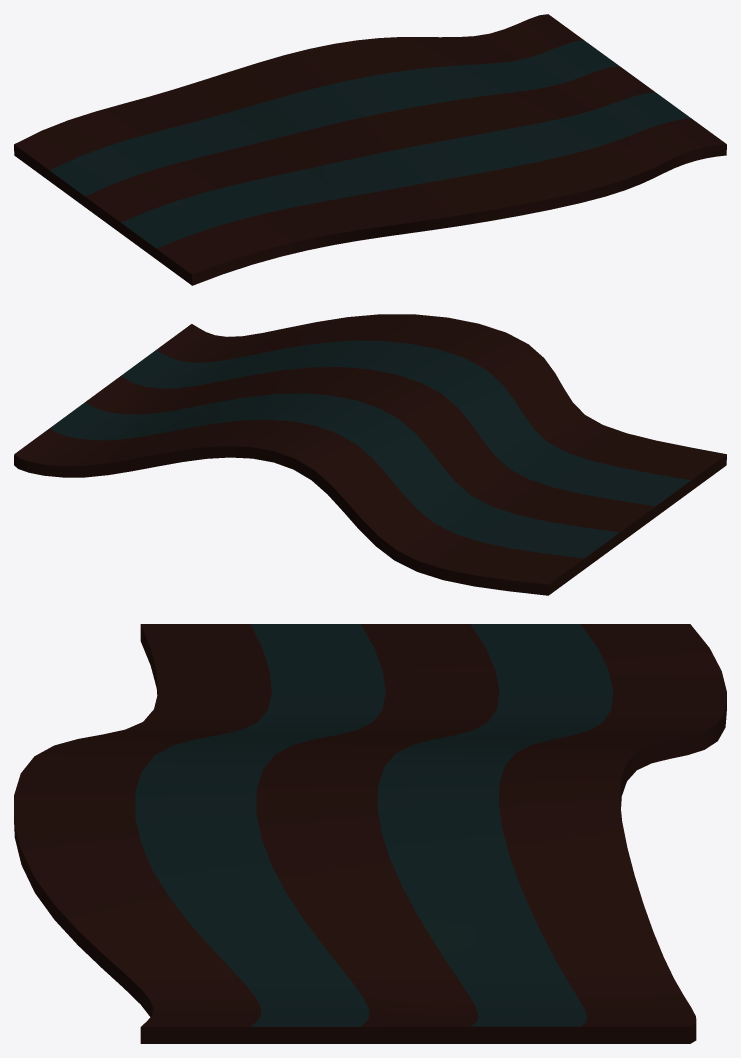
The model's file is trackstraight2.fbx.
The picture shows the model from 3 angles, top to bottom: view 1: azimuth 30°, elevation 25°; view 2: azimuth 150°, elevation 25°; view 3: azimuth 270°, elevation 25°; orthographic projection. The views are drawn at different scales.
Visible parts, largest first — view 1: straight2; view 2: straight2; view 3: straight2.
Boxes of the visible parts, x1,y1,x2,y2 form: straight2: [14, 14, 726, 285]; straight2: [14, 314, 726, 595]; straight2: [14, 624, 726, 1043].
Size of the model in its own units: 501 by 52.19 by 375.
Materials: 1 (1 with a texture image).
